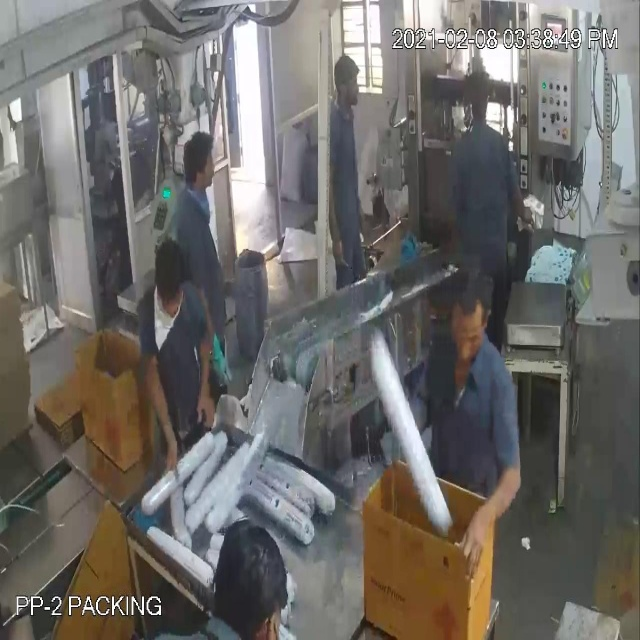Sin_guantes: (455, 446, 527, 571), (131, 339, 182, 493), (184, 319, 221, 428)
